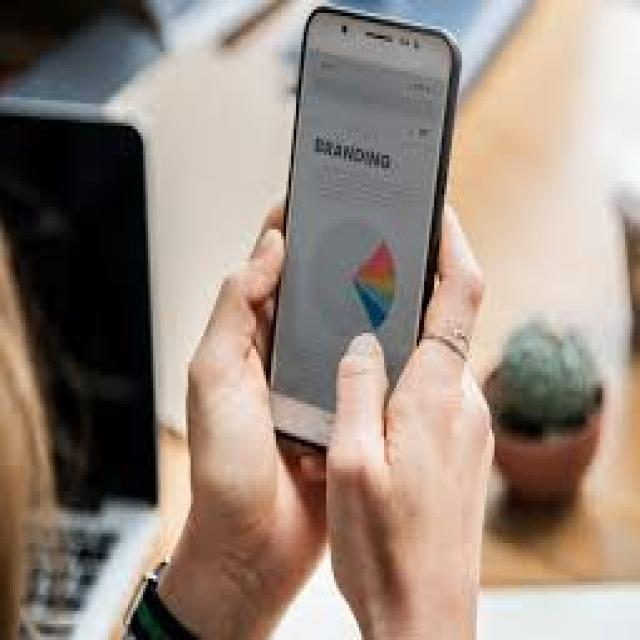Phone: (269, 2, 466, 454)
